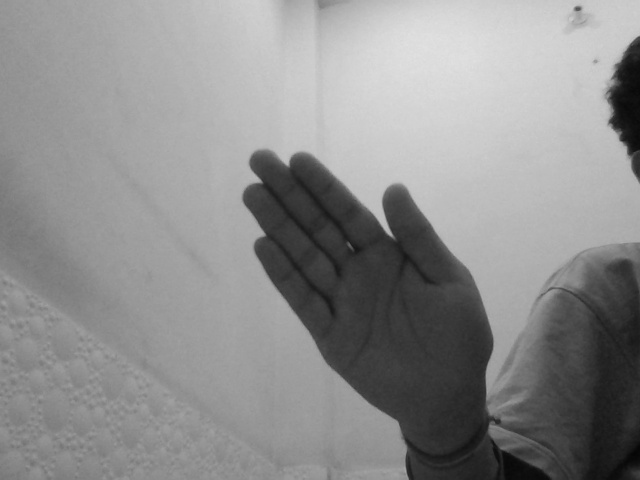Hello: (237, 146, 497, 426)
